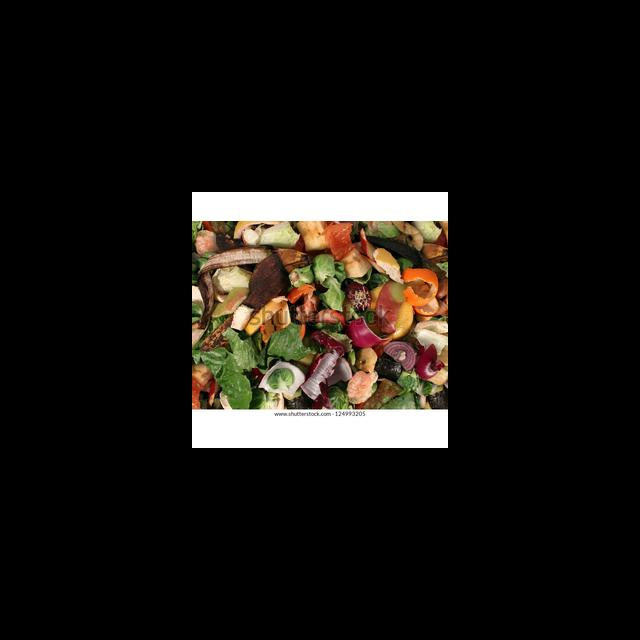food_waste: (192, 222, 448, 408)
